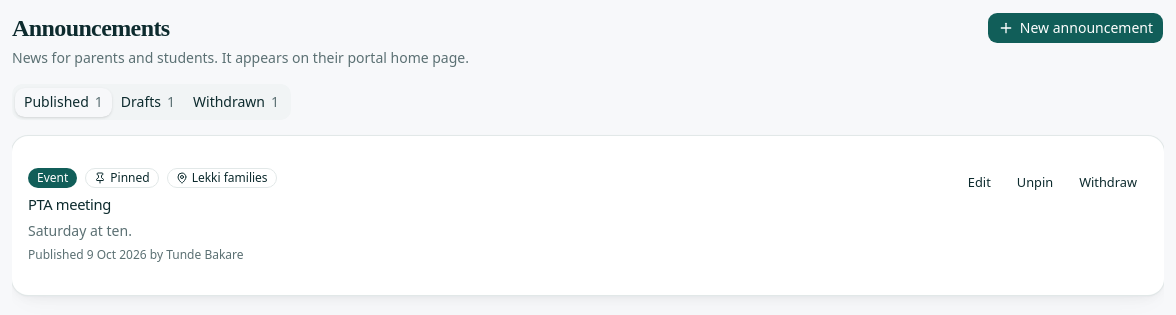
Test case: AnnouncementsPage list › shows the error inside the card
Step 1. Click the tab "Drafts 1" → (148, 102), box [112,88,184,116]
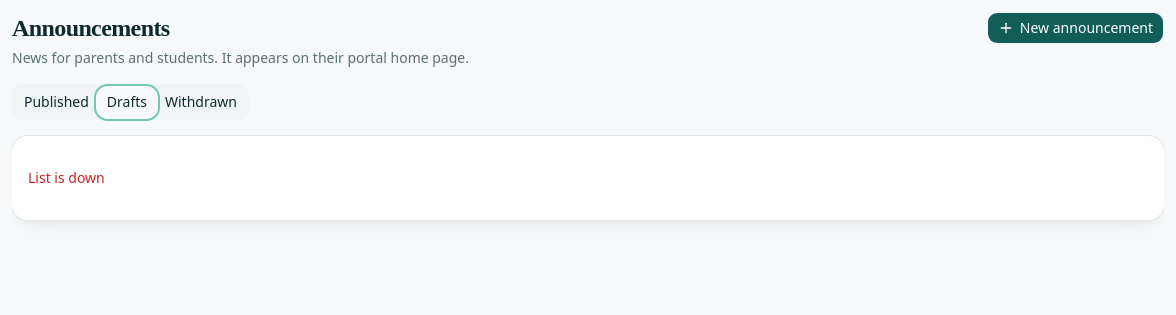
Result: the text "List is down" is shown at [28,168,105,187]
